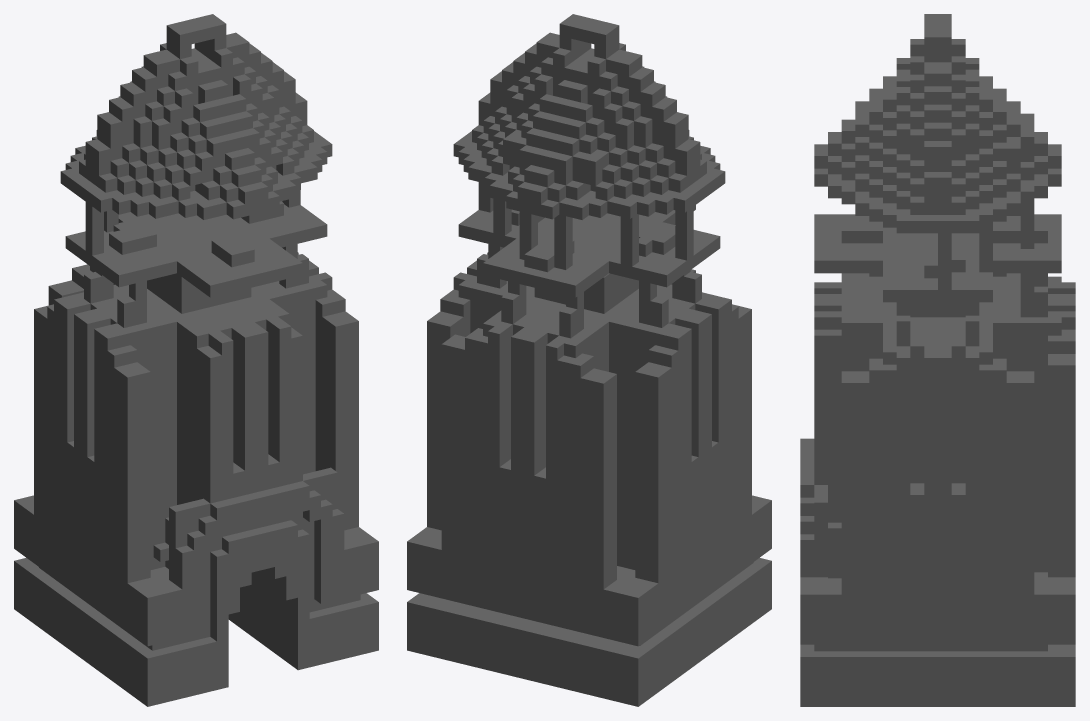
Rendered from Lighthouse-2.obj.
3 renders of one model, left to right at view 1: azimuth 30°, elevation 25°; view 2: azimuth 150°, elevation 25°; view 3: azimuth 270°, elevation 25°, orthographic. The views are drawn at different scales.
Size of the model in its own units: 2 by 5 by 2.
Materials: 1 (1 with a texture image).
